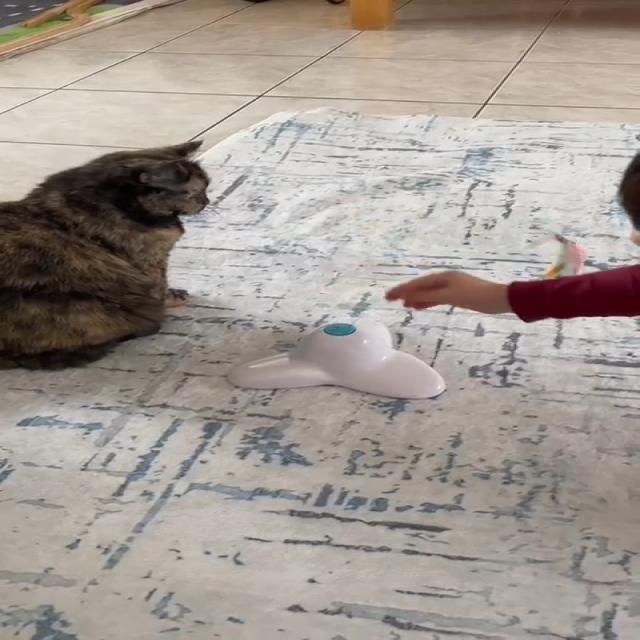authorized: (0, 138, 211, 371)
